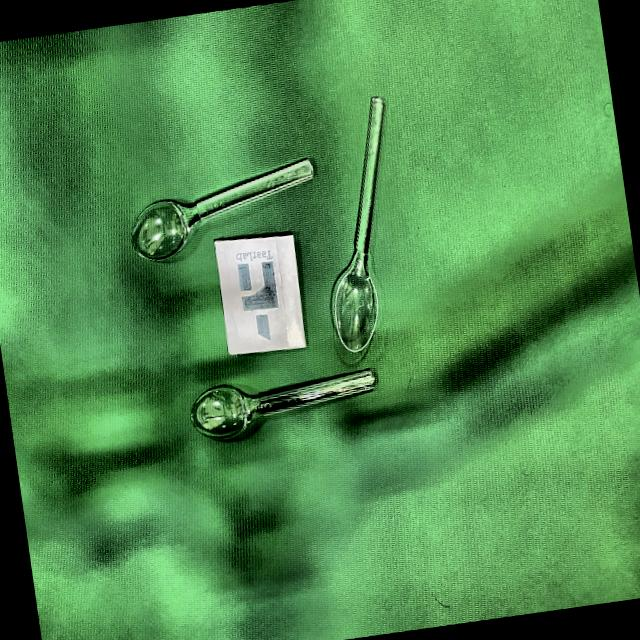plastic utensil: (134, 156, 309, 259), (333, 99, 390, 352), (192, 369, 372, 439)
